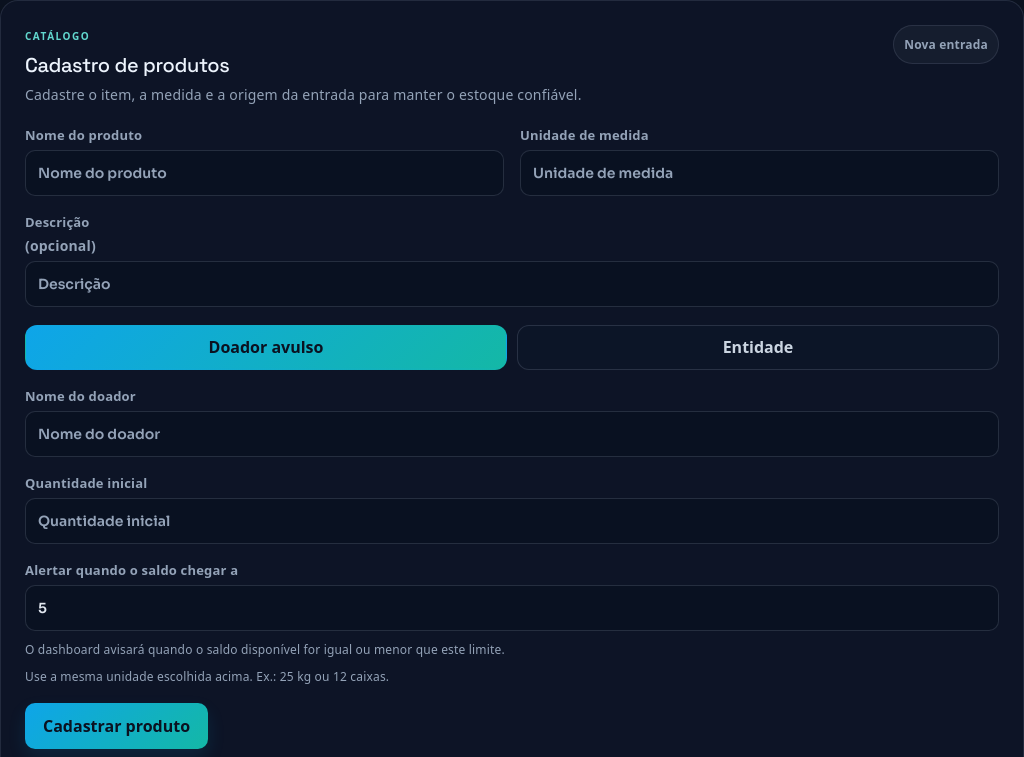
cadastra produto com entidade selecionada
The image size is (1024, 757).
Click the button "Entidade".
click(758, 347)  # box [517, 325, 999, 370]
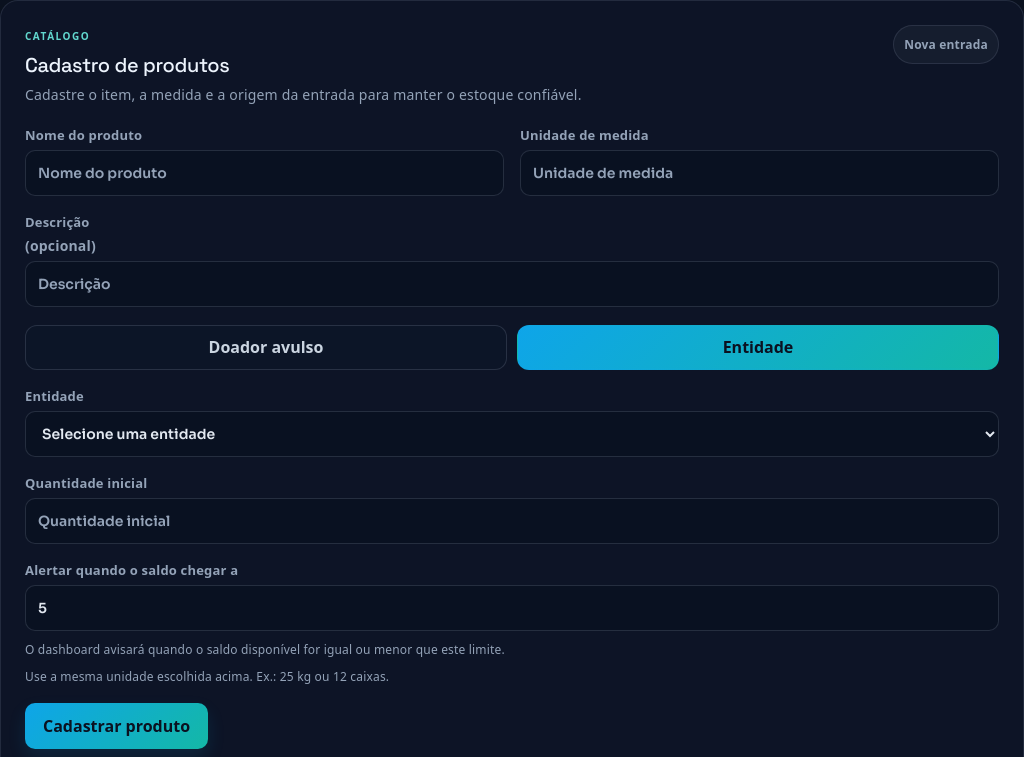
Check: the dropdown labelled "Entidade" is shown, box [25, 411, 999, 457]
Type "Feijao" into the field with placeholder "Nome do produto".
click(264, 173); type("Feijao")  # box [25, 150, 504, 196]
Type "Pacote 1kg" into the field with placeholder "Descrição".
click(512, 284); type("Pacote 1kg")  # box [25, 261, 999, 307]
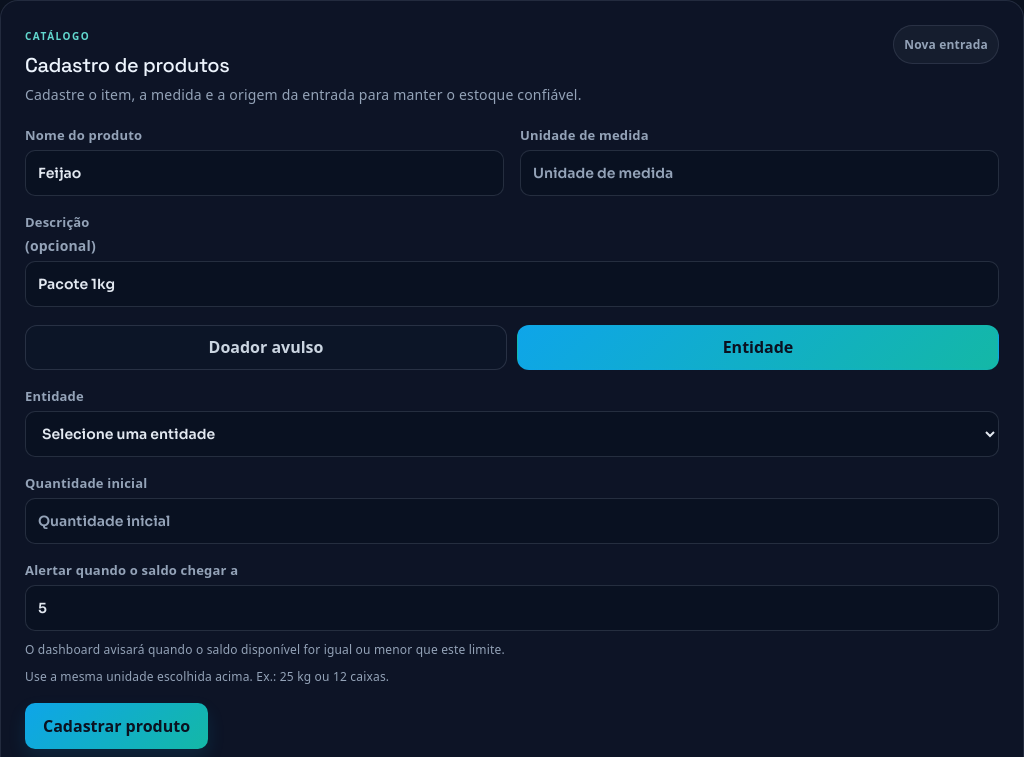
Type "kg" into the field with placeholder "Unidade de medida".
click(760, 173); type("kg")  # box [520, 150, 999, 196]
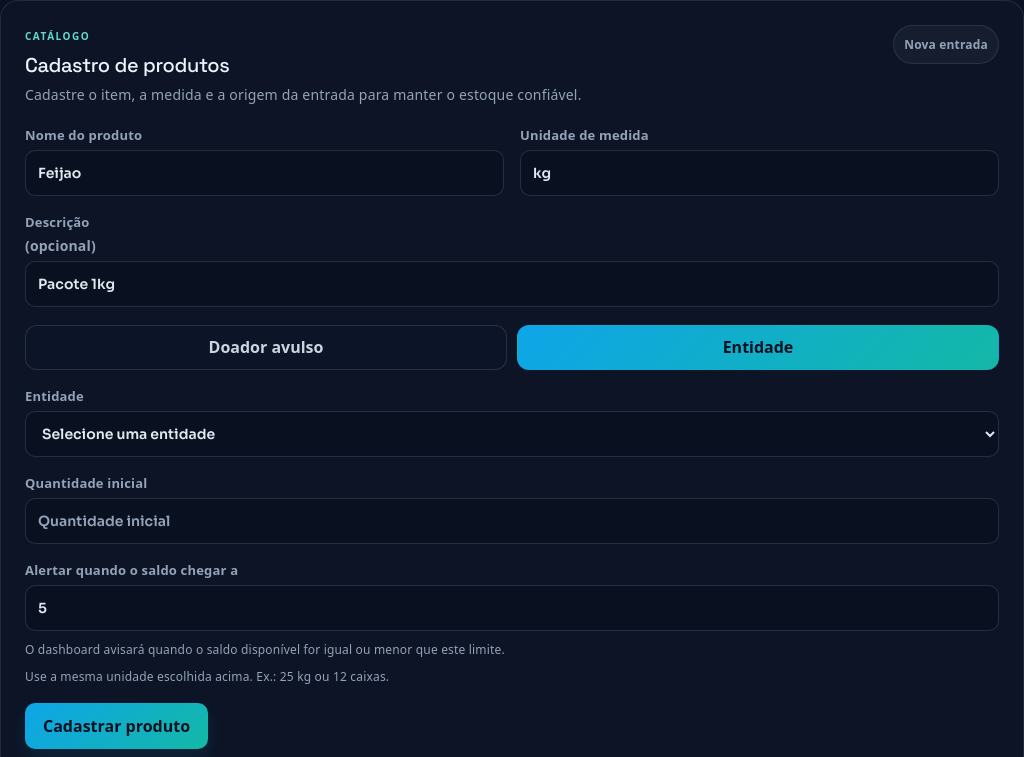
Select "Casa Solidaria" in the dropdown labelled "Entidade" at (512,434), box [25, 411, 999, 457]
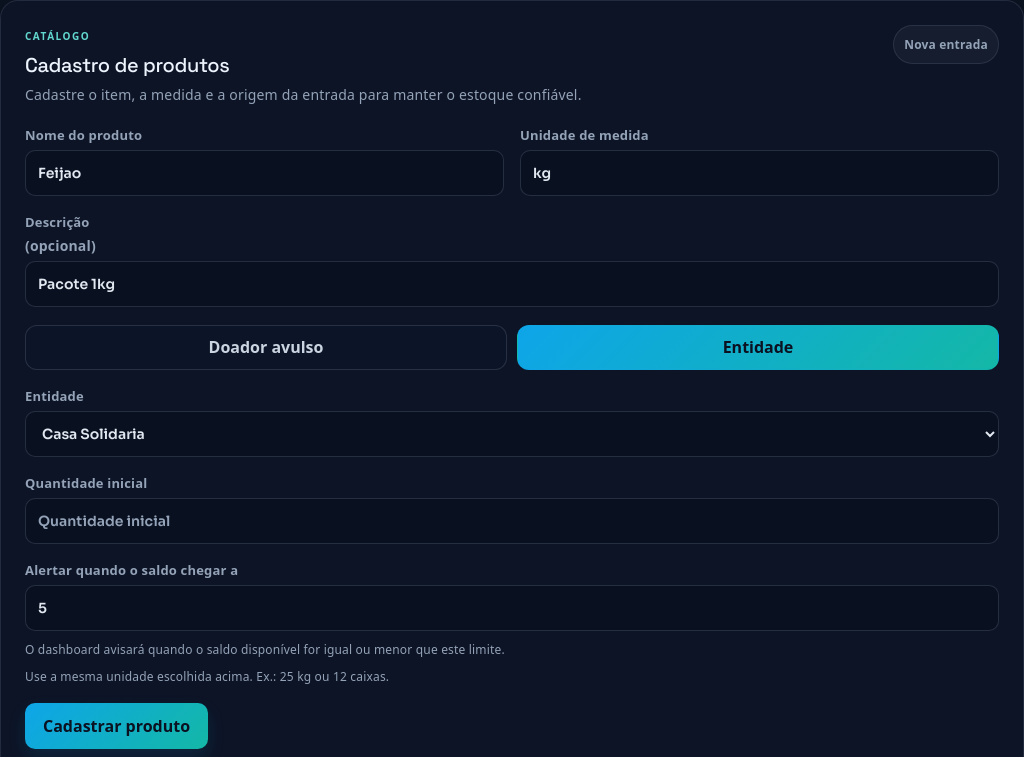
Type "5" into the number field with placeholder "Quantidade inicial".
click(512, 521); type("5")  # box [25, 498, 999, 544]
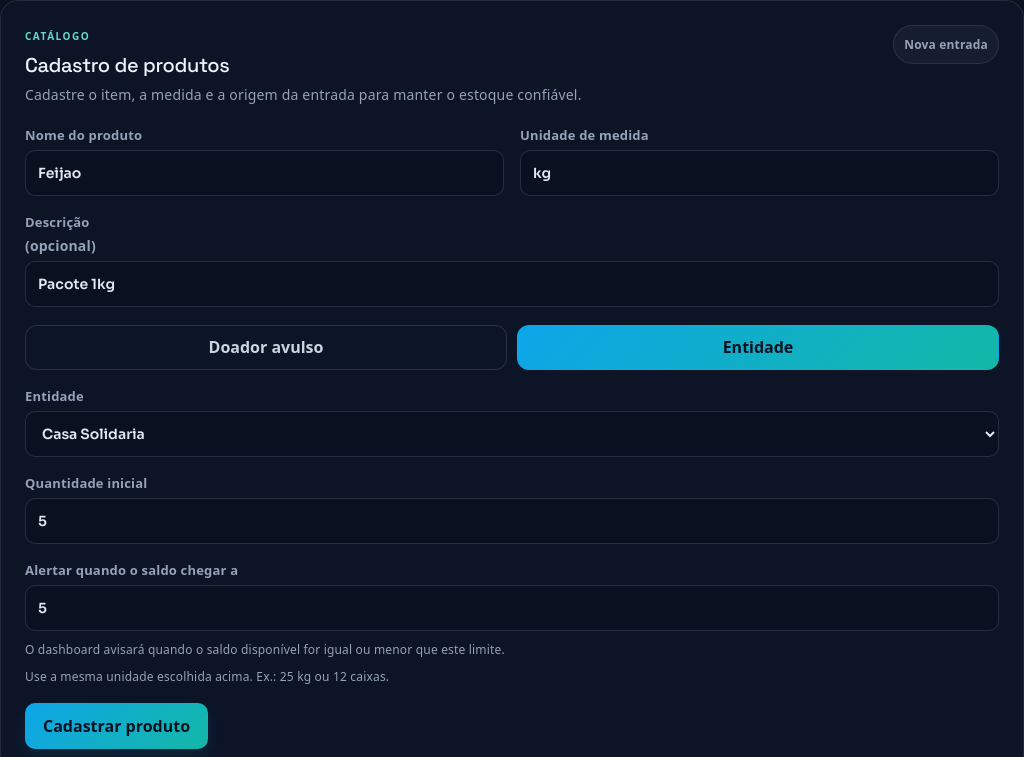
Click the button "Cadastrar produto".
click(116, 726)  # box [25, 703, 208, 749]
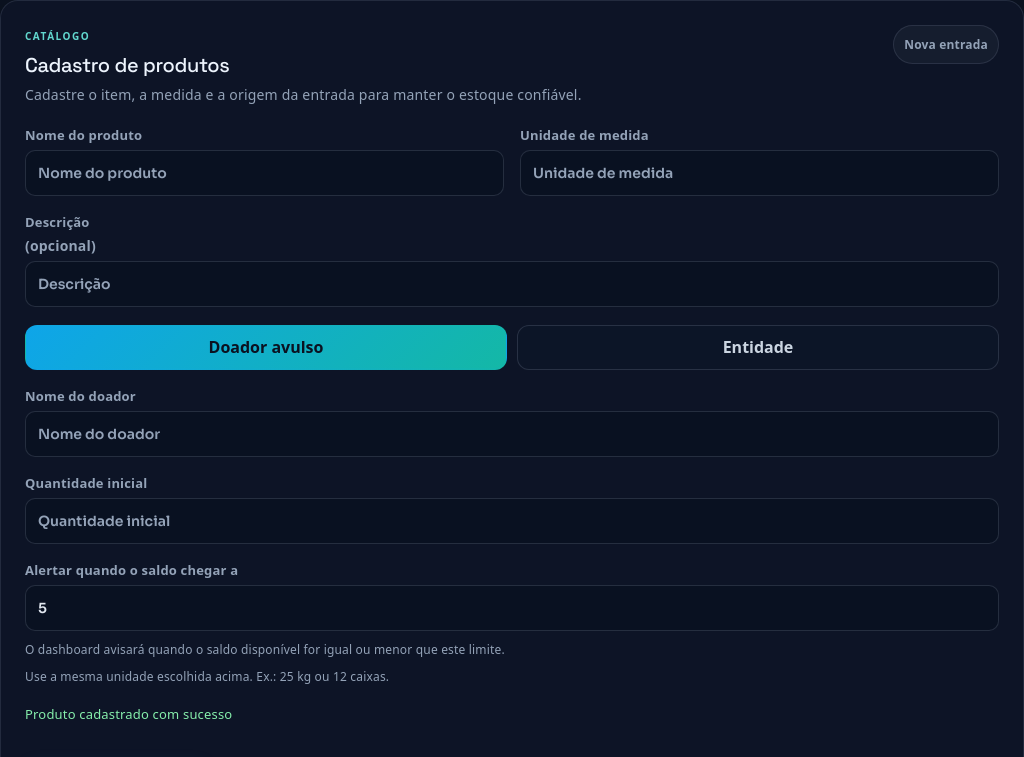
Check: the text "Produto cadastrado com sucesso" is shown, box [25, 705, 232, 723]
